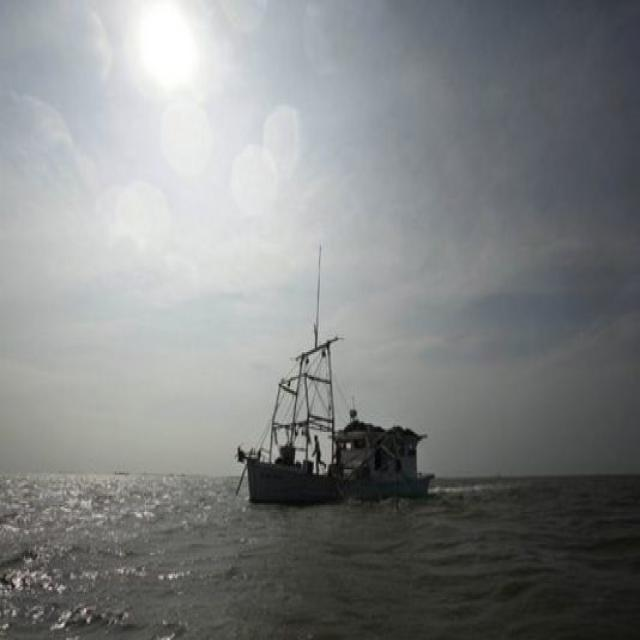fishing boat: (234, 253, 432, 504)
